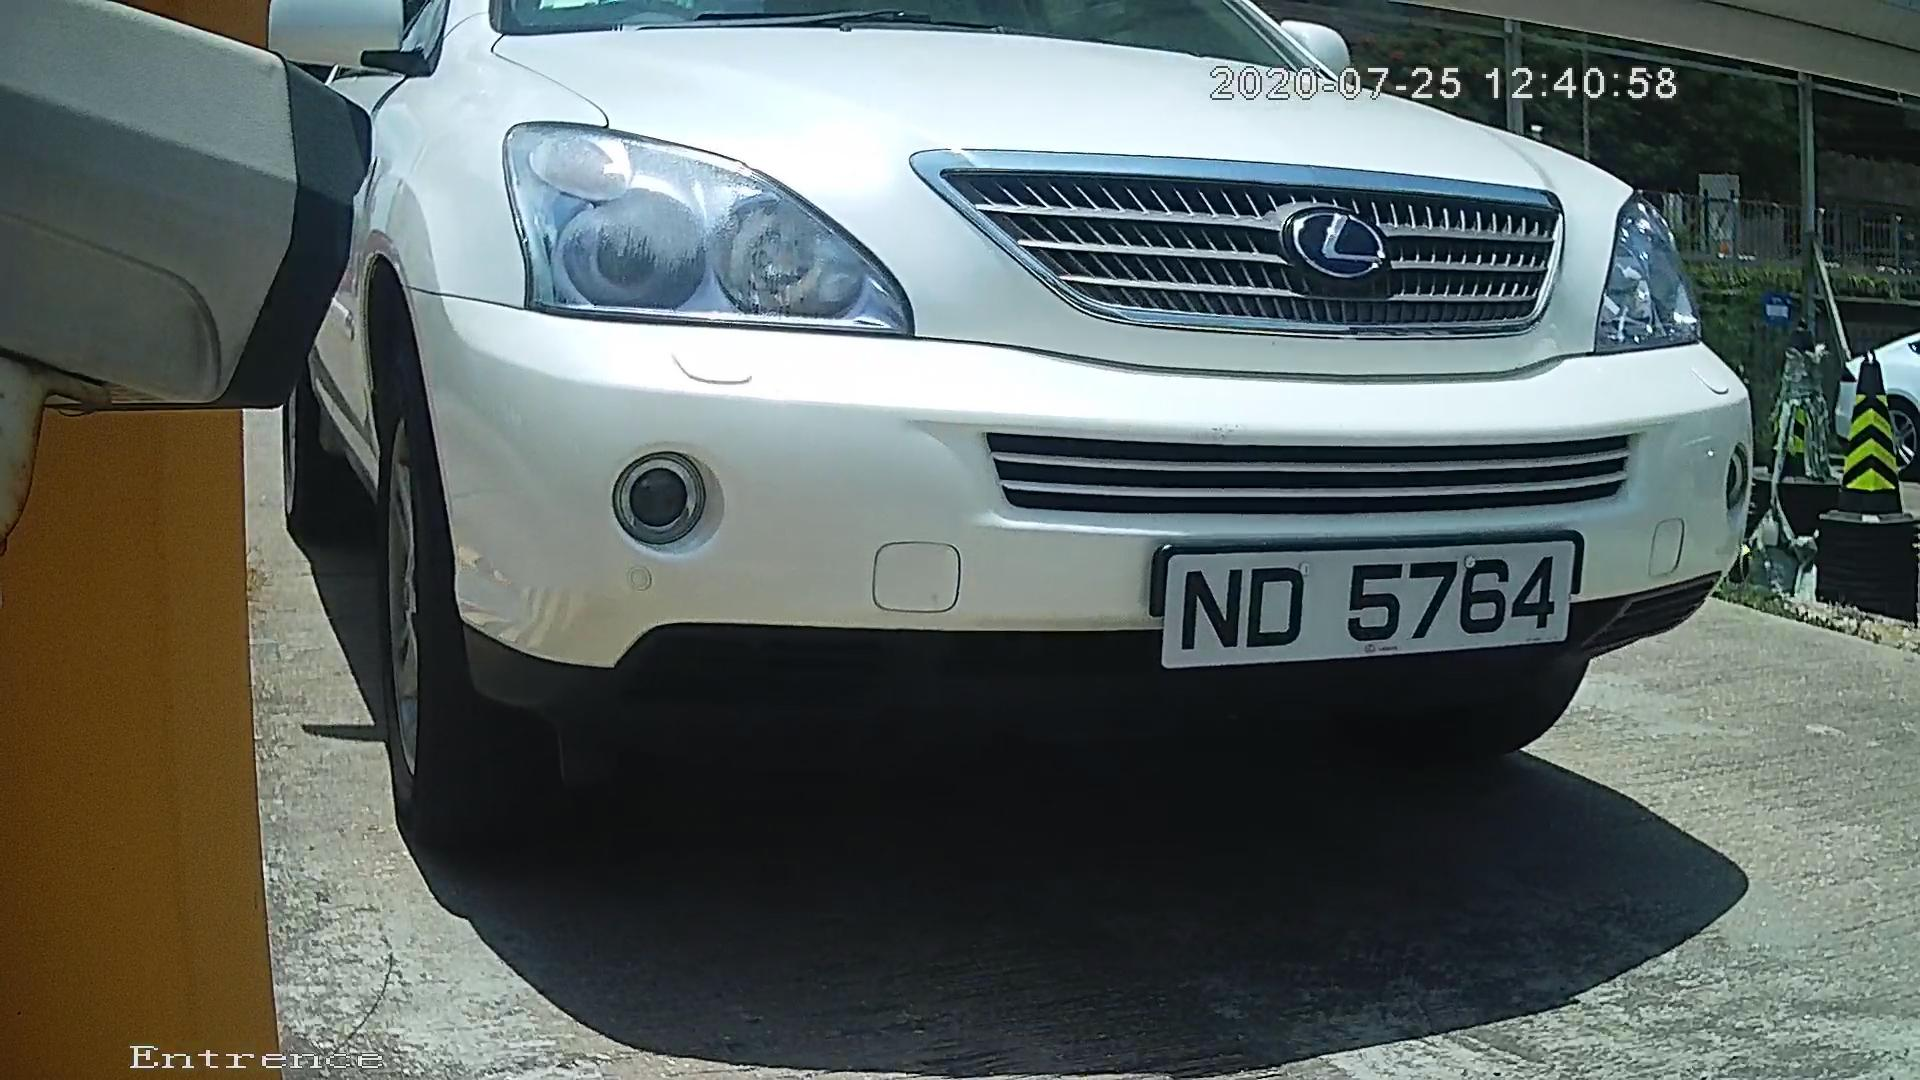Car: (121, 5, 1843, 941)
License Plate: (1106, 516, 1586, 690)
